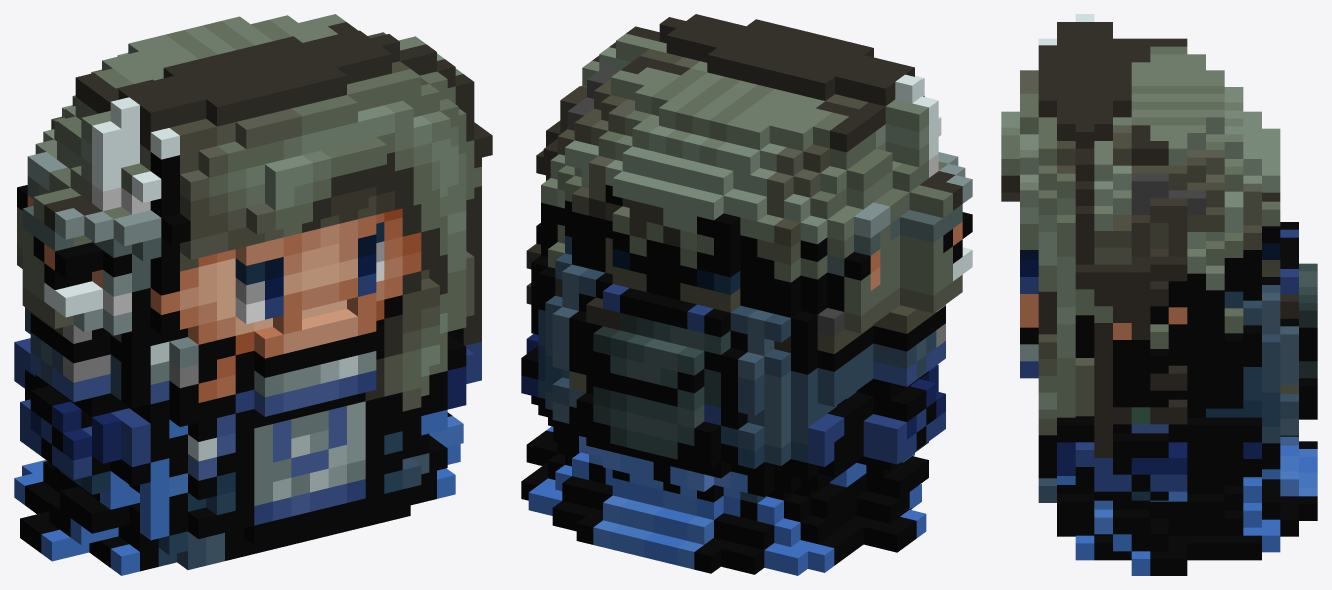
Rendered from Icon_211_03.obj.
3 renders of one model, left to right at view 1: azimuth 30°, elevation 25°; view 2: azimuth 150°, elevation 25°; view 3: azimuth 270°, elevation 25°, orthographic. The views are drawn at different scales.
Bounding box in the file's own units: 2.3 × 2.4 × 1.7.
